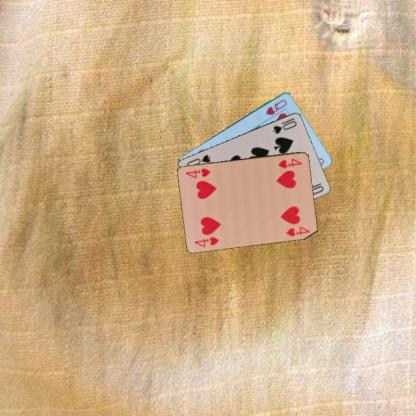10s: (271, 115, 298, 135)
4h: (192, 234, 220, 248), (276, 156, 303, 170)
Qh: (263, 97, 288, 116)
